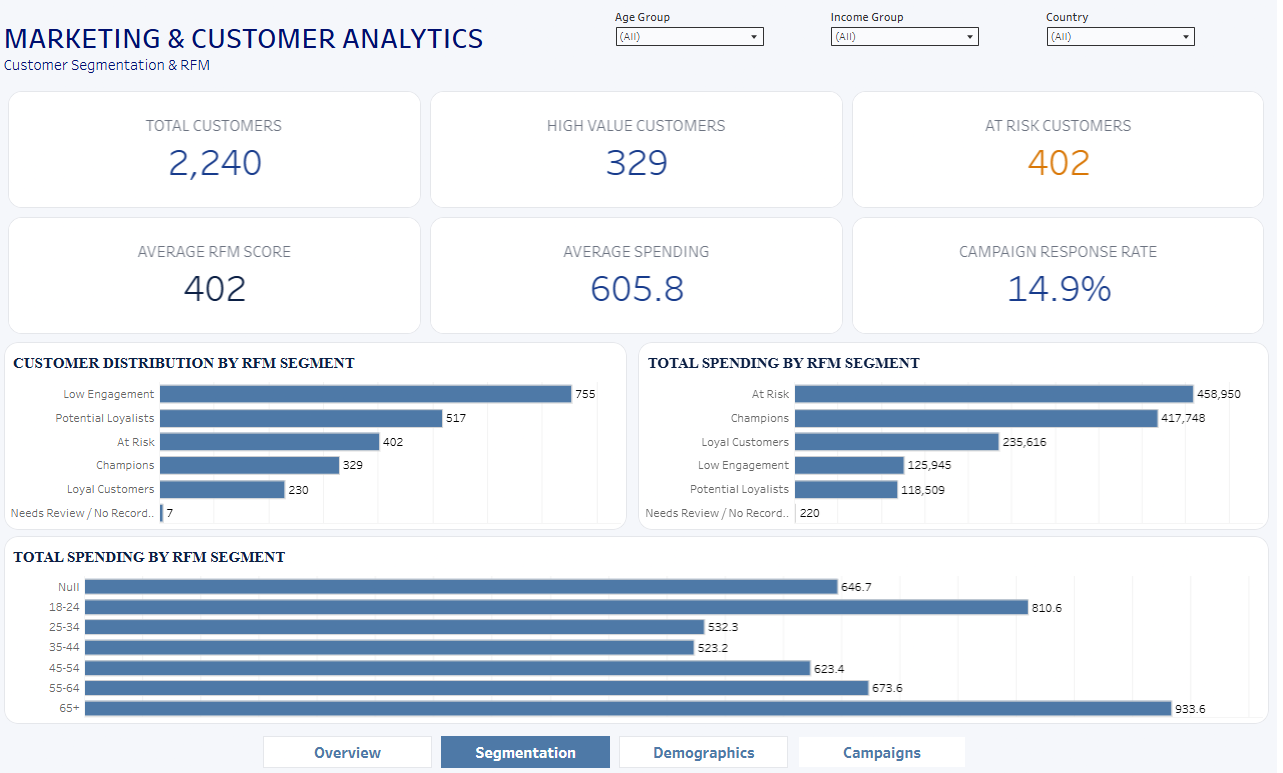

This screenshot's page, from the dashboard's own definition file:
{"tool":"tableau","page":{"name":"02_Customer_Segmentation","canvas":[1366,830],"ordinal":1},"visuals":[{"type":"text","box":[8,9,1350,82]},{"type":"filter","title":"CH_RFM_Segment_Distribution","param":"[federated.05ylme20dnpxct1gjvnq2020ji7q].[none:Age_Group:nk]","box":[660,9.7,160,61.6]},{"type":"filter","title":"CH_RFM_Segment_Distribution","param":"[federated.05ylme20dnpxct1gjvnq2020ji7q].[none:Income_Group:nk]","box":[890,9.7,160,56.2]},{"type":"filter","title":"CH_RFM_Segment_Distribution","param":"[federated.05ylme20dnpxct1gjvnq2020ji7q].[none:Country:nk]","box":[1120,9.7,160,62.7]},{"type":"worksheet","title":"KPI_Total_Customers","mark":"Automatic","box":[8,92,450,135]},{"type":"worksheet","title":"KPI_High_Value_Customers","mark":"Automatic","box":[458,92,450,135]},{"type":"worksheet","title":"KPI_At_Risk_Customers","mark":"Automatic","box":[908,92,450,135]},{"type":"worksheet","title":"KPI_Avg_RFM_Score","mark":"Automatic","box":[8,226,450,135]},{"type":"worksheet","title":"KPI_Avg_Spending","mark":"Automatic","box":[458,226,450,135]},{"type":"worksheet","title":"KPI_Response_Rate","mark":"Automatic","box":[908,226,450,135]},{"type":"worksheet","title":"CH_RFM_Segment_Distribution","mark":"Bar","rows":["RFM_Segment"],"cols":["ID"],"box":[8,365,665,200]},{"type":"worksheet","title":"CH_RFM_Segment_Spending","mark":"Bar","rows":["RFM_Segment"],"cols":["Total_Spending"],"box":[685,365,673,200]},{"type":"worksheet","title":"CH_Avg_Spending_Age_Group","mark":"Bar","rows":["Age_Group"],"cols":["Total_Spending"],"box":[8,572,1350,200]},{"type":"dashboard-object","box":[285,785,180,34]},{"type":"dashboard-object","box":[475,785,180,34]},{"type":"dashboard-object","box":[665,785,180,34]},{"type":"dashboard-object","box":[855,785,180,34]}]}

Visuals, with their boxes in screenshot pixels (x1, y1, x2, y2), scaled from the page's 1366x830 canvas onto the 1283x773 screenshot:
text: [8,8,1275,85]
"CH_RFM_Segment_Distribution" filter: [620,9,770,66]
"CH_RFM_Segment_Distribution" filter: [836,9,986,61]
"CH_RFM_Segment_Distribution" filter: [1052,9,1202,67]
"KPI_Total_Customers" worksheet: [8,86,430,211]
"KPI_High_Value_Customers" worksheet: [430,86,853,211]
"KPI_At_Risk_Customers" worksheet: [853,86,1275,211]
"KPI_Avg_RFM_Score" worksheet: [8,210,430,336]
"KPI_Avg_Spending" worksheet: [430,210,853,336]
"KPI_Response_Rate" worksheet: [853,210,1275,336]
"CH_RFM_Segment_Distribution" worksheet (Bar marks): [8,340,632,526]
"CH_RFM_Segment_Spending" worksheet (Bar marks): [643,340,1275,526]
"CH_Avg_Spending_Age_Group" worksheet (Bar marks): [8,533,1275,719]
dashboard-object: [268,731,437,763]
dashboard-object: [446,731,615,763]
dashboard-object: [625,731,794,763]
dashboard-object: [803,731,972,763]
